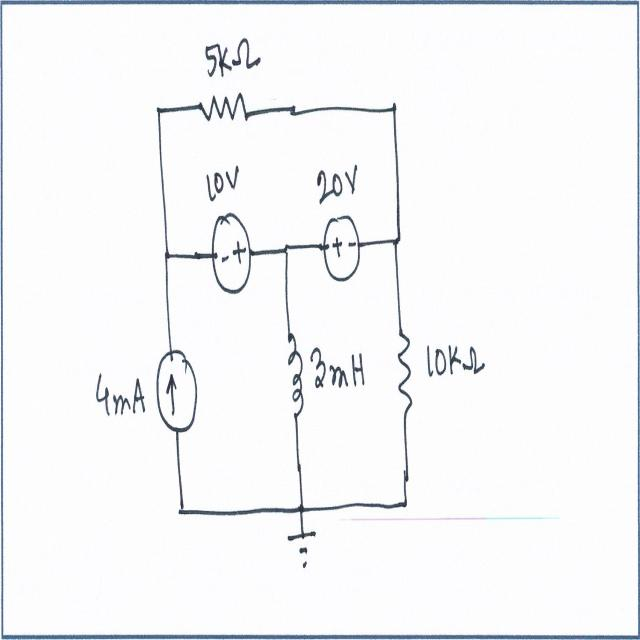current_source: (151, 346, 200, 440)
ground: (286, 527, 318, 572)
inductor: (284, 324, 308, 425)
resistor: (197, 88, 249, 133), (395, 323, 417, 428)
voltage_source: (211, 208, 253, 294), (321, 212, 365, 284)
